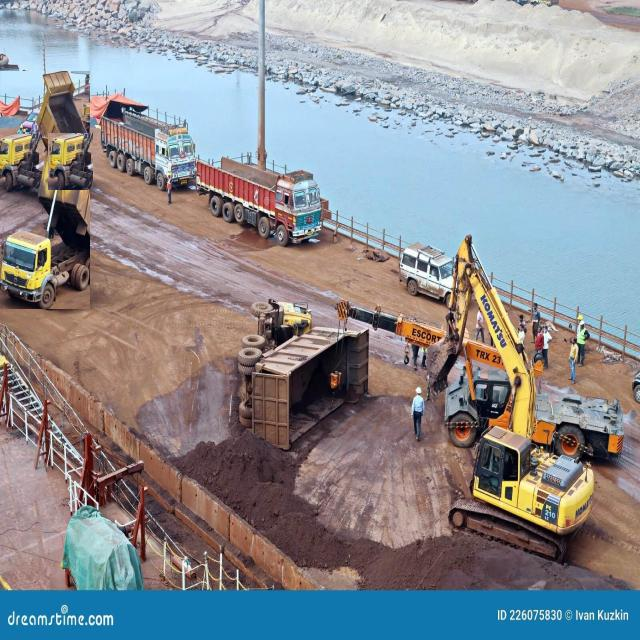accident: (238, 299, 369, 449)
car: (399, 242, 454, 303)
truck: (428, 235, 594, 559), (0, 71, 90, 309), (196, 157, 322, 245), (100, 93, 196, 190), (49, 133, 93, 190)
